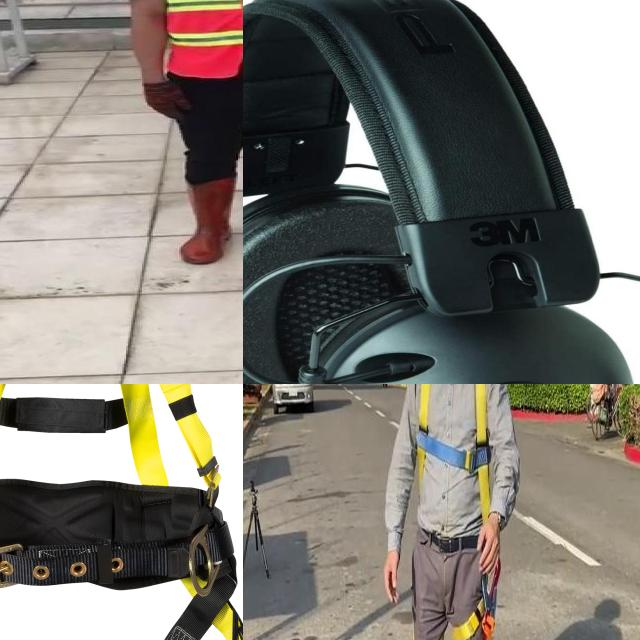Ear-protection: (243, 178, 418, 384), (300, 296, 640, 384)
Harness: (0, 384, 243, 640), (417, 384, 492, 518), (438, 569, 501, 640)
boots: (180, 178, 240, 264)
person: (128, 0, 243, 273)
vest: (155, 0, 243, 76)
